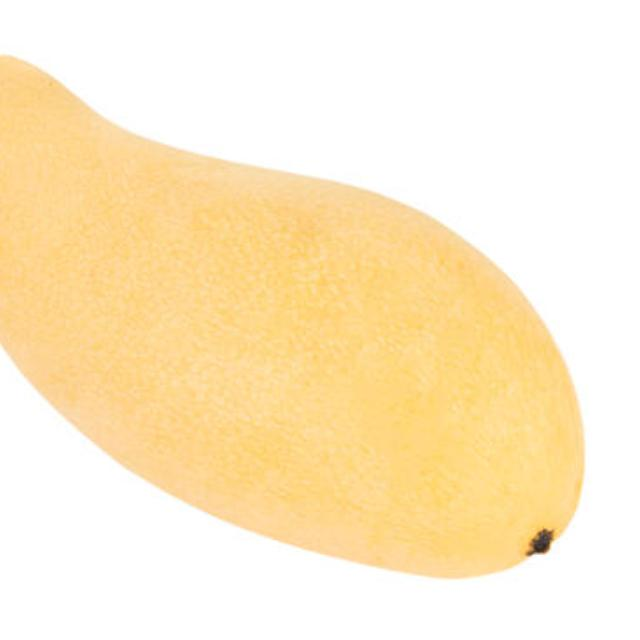mango: (0, 47, 585, 577)
